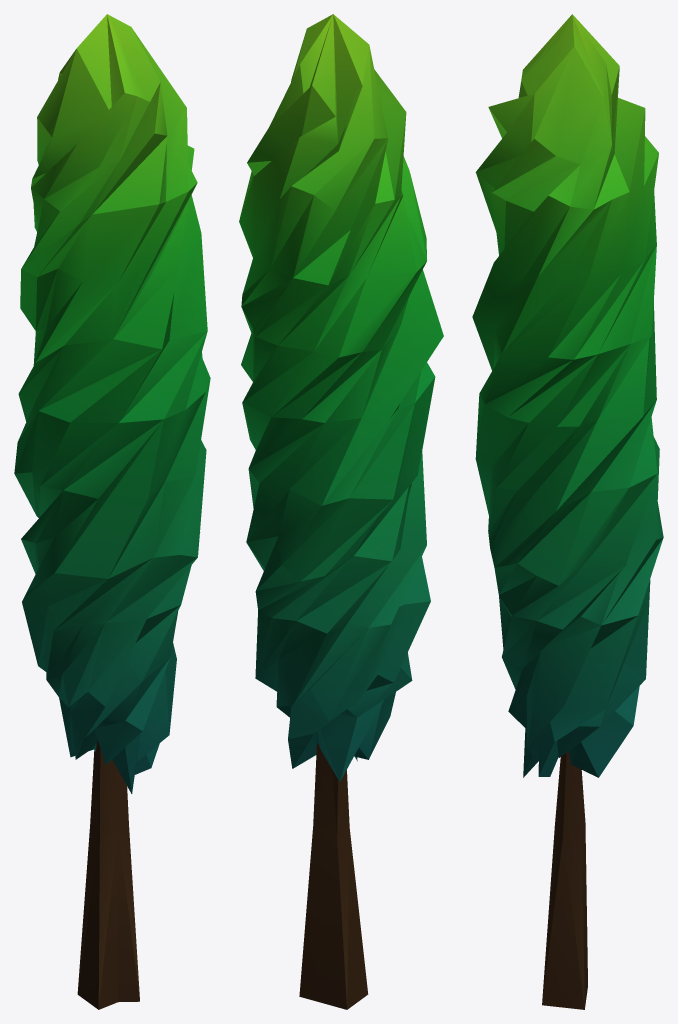
Rendered from Tree_5D.fbx.
The picture shows the model from 3 angles, left to right: view 1: azimuth 30°, elevation 25°; view 2: azimuth 150°, elevation 25°; view 3: azimuth 270°, elevation 25°; orthographic projection.
Parts seen in each view (by area): view 1: Tree_5D; view 2: Tree_5D; view 3: Tree_5D.
Boxes of the visible parts, x1,y1,x2,y2 form: Tree_5D: (14,14,210,1009); Tree_5D: (239,14,443,1009); Tree_5D: (472,14,663,1009).
Size of the model in its own units: 404 by 2080 by 367.
1 material, 1 textured.
